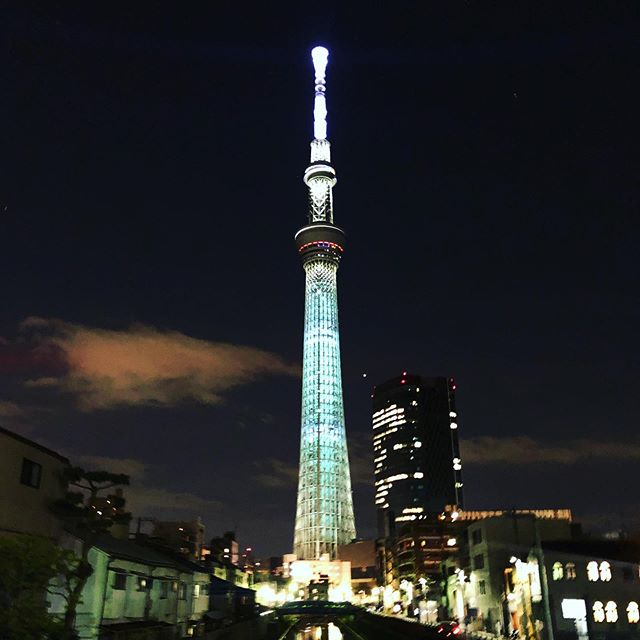building: (278, 29, 374, 546), (84, 488, 211, 640), (454, 508, 568, 640), (368, 386, 462, 535), (503, 542, 640, 640)
sky: (1, 1, 614, 475)
